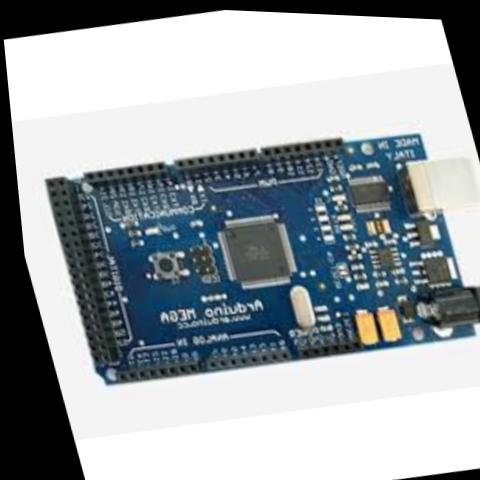Arduino-Mega: (17, 86, 480, 416)
